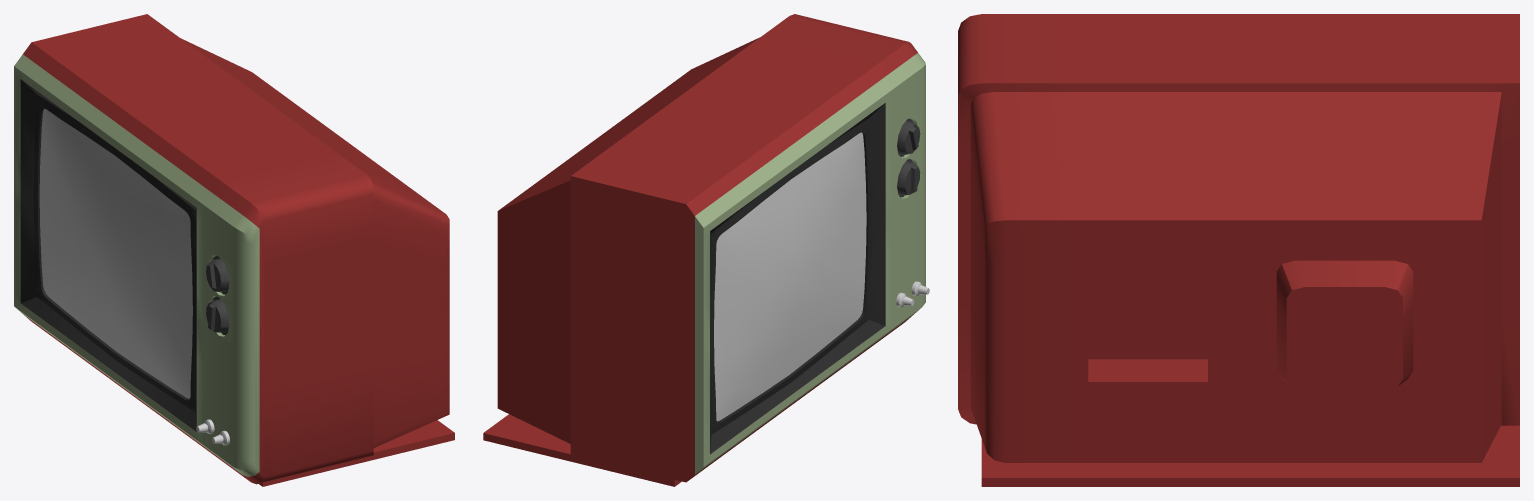
The model's file is Tele.fbx.
The picture shows the model from 3 angles, left to right: view 1: azimuth 30°, elevation 25°; view 2: azimuth 150°, elevation 25°; view 3: azimuth 270°, elevation 25°; orthographic projection. The views are drawn at different scales.
Parts seen in each view (by area): view 1: Tele, PantallaTele; view 2: Tele, PantallaTele; view 3: Tele.
Part boxes in pixels (x1,y1,x2,y2): Tele: [14, 14, 454, 486]; PantallaTele: [39, 108, 192, 398]; Tele: [483, 14, 929, 486]; PantallaTele: [714, 132, 866, 421]; Tele: [958, 14, 1519, 486].
Bounding box in the file's own units: 64.01 × 65.8 × 95.42.
